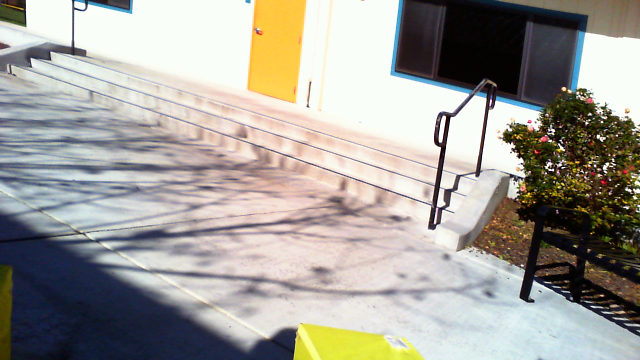cube: (290, 322, 423, 360)
